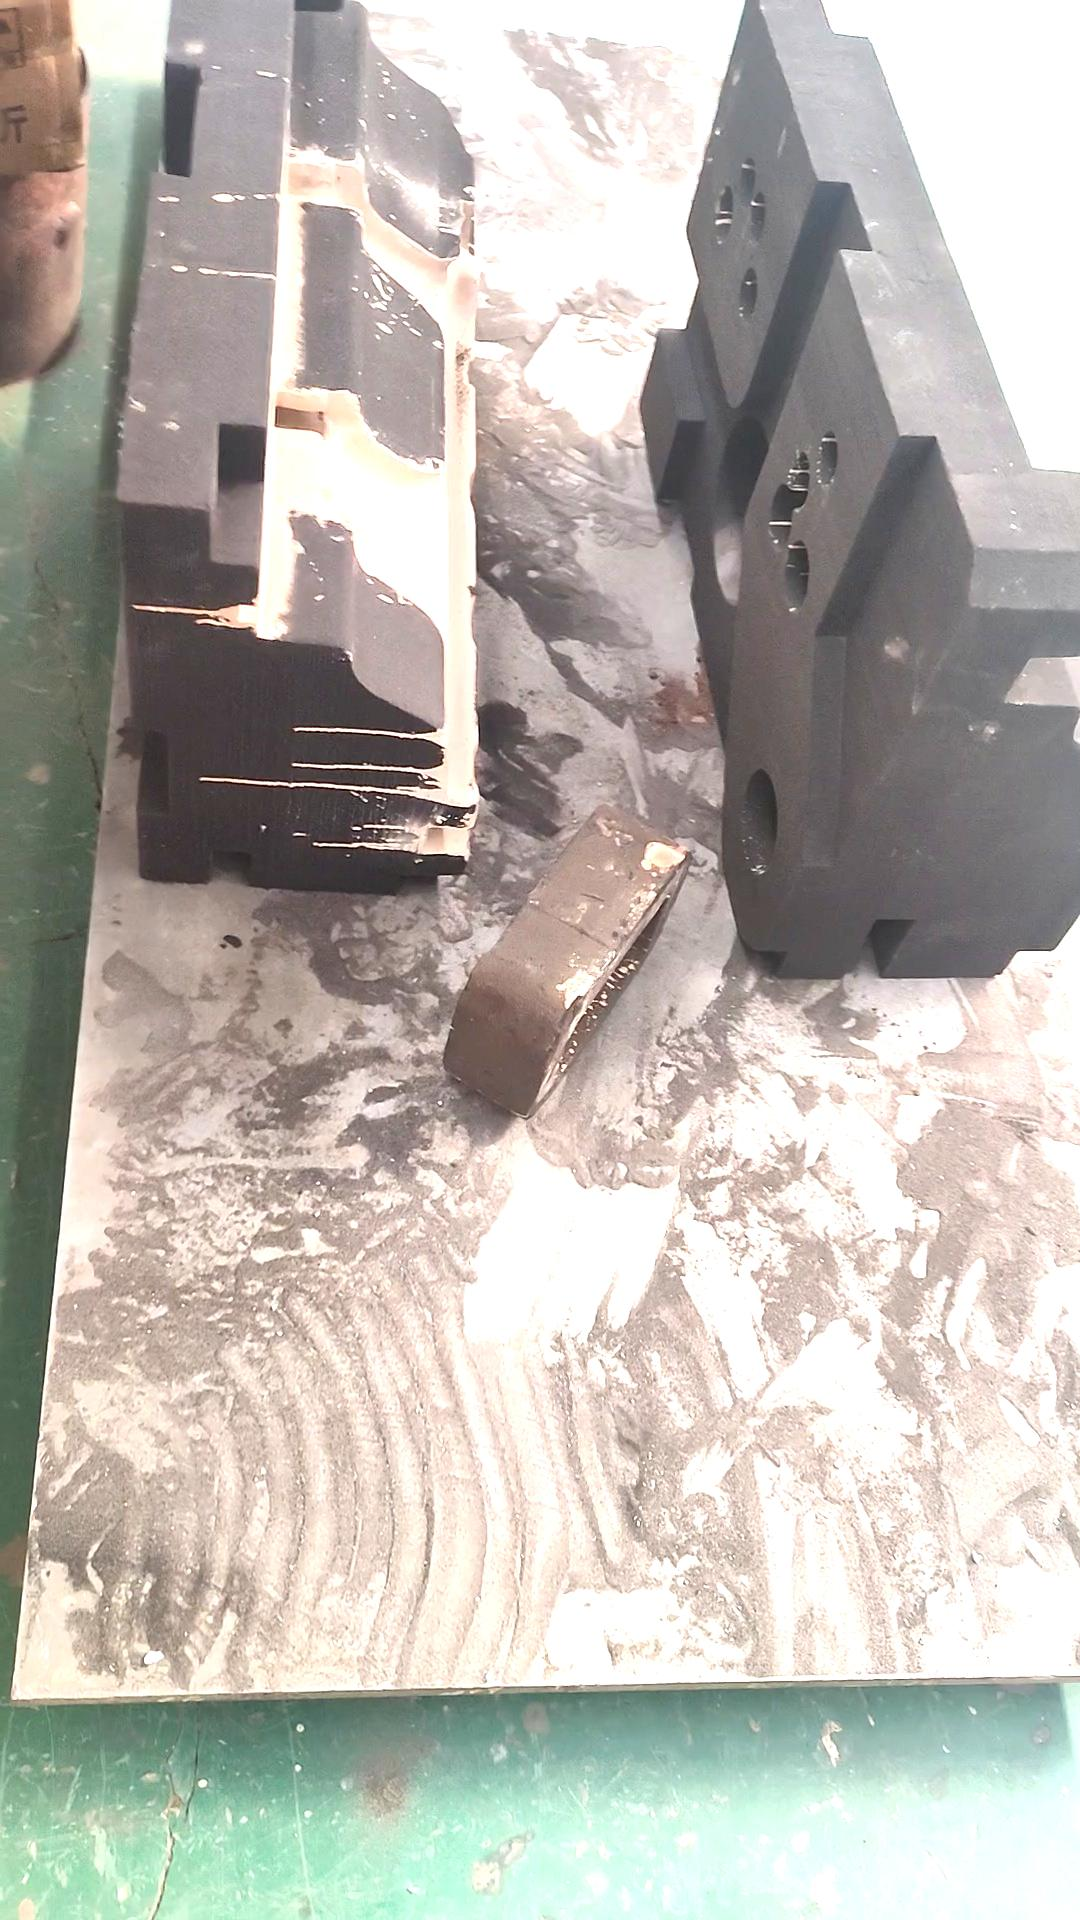pouring hole: (742, 767, 779, 873)
